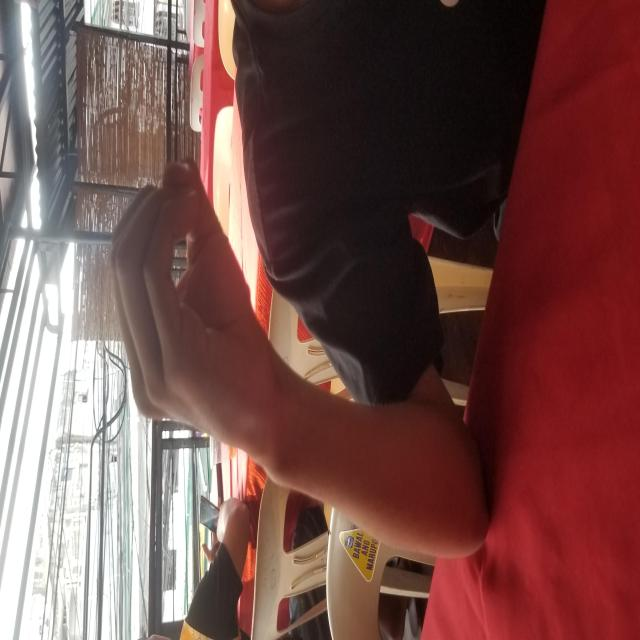O: (176, 106, 484, 278)
